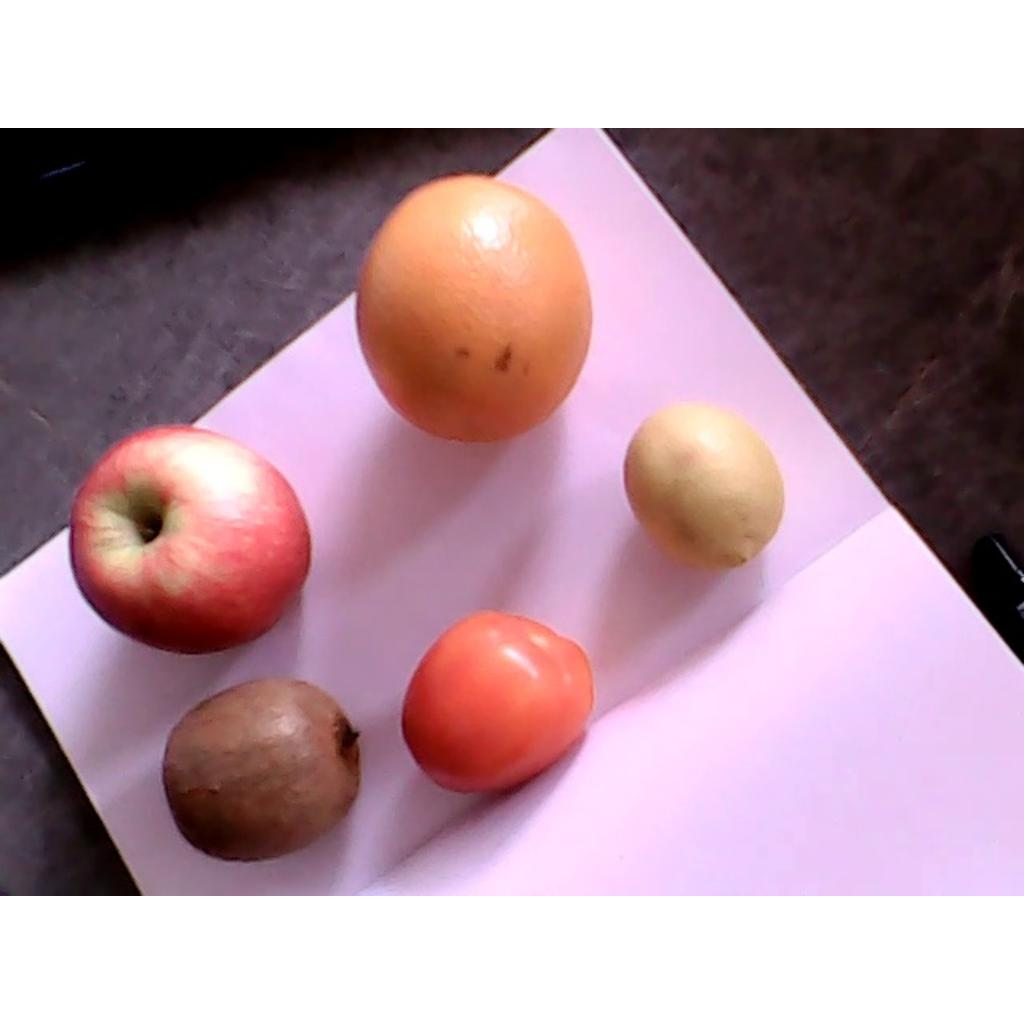apple: (68, 424, 312, 656)
kiwi: (163, 677, 362, 862)
lemon: (623, 405, 782, 571)
orange: (355, 177, 593, 444)
tomato: (399, 610, 598, 792)
